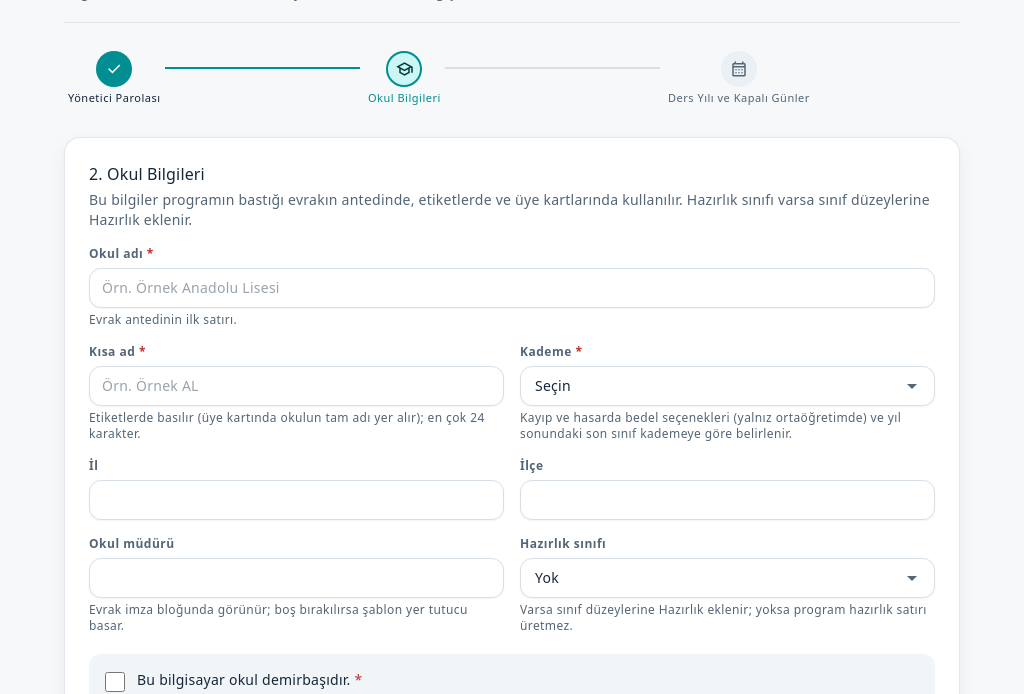
Test: KurulumPage — 2. adım: okul bilgileri › kademe, kısa ad ve demirbaş onayı olmadan kaydetmez; alan hataları gösterilir
Check: the text "2. Okul Bilgileri" is shown, box [89,163,205,185]
Type "Deneme Anadolu Lisesi" into the field labelled "Okul adı *" at (512, 288), box [102,278,922,298]
(page scrolled)
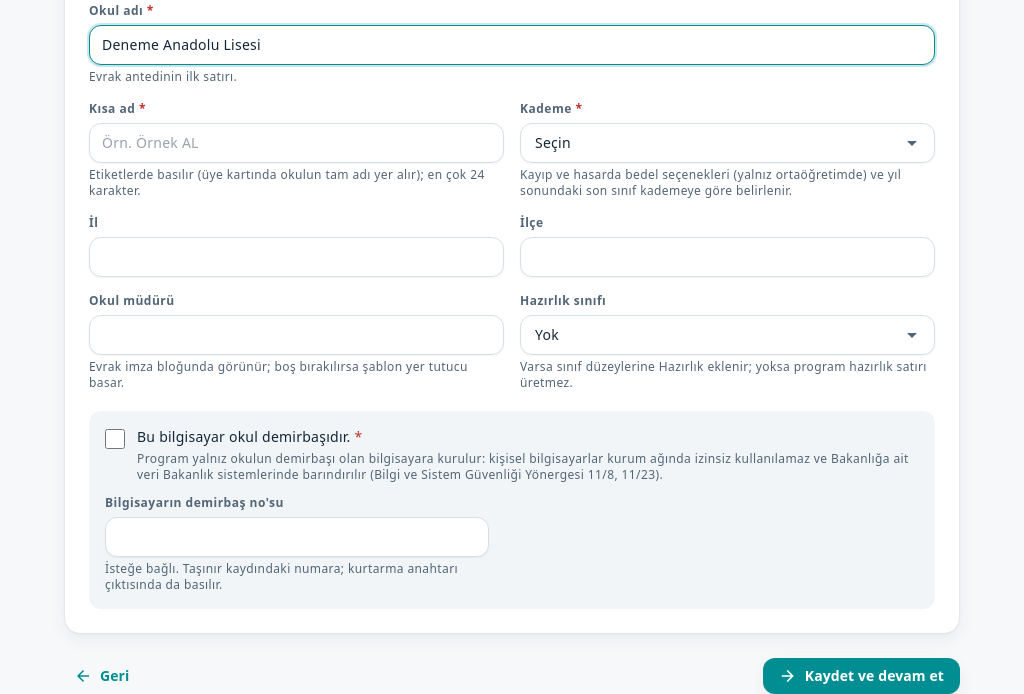
Click the button "Kaydet ve devam et" at (861, 676), box [763,658,960,693]
(page scrolled)
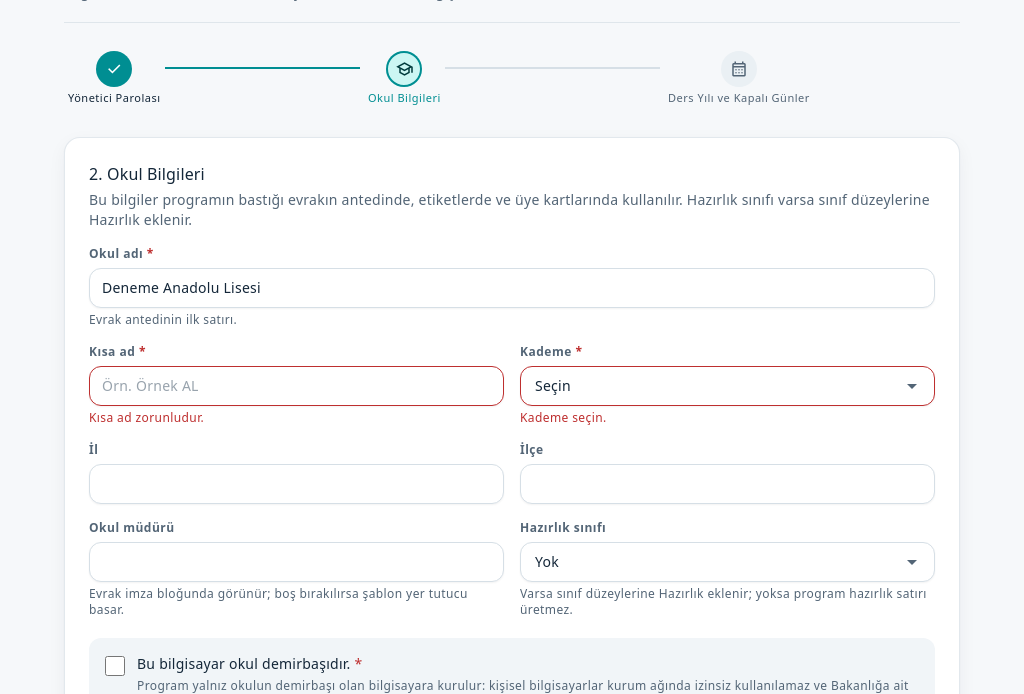
Check: the text "2. Okul Bilgileri" is shown, box [89,163,205,185]
Check: the text "Kademe seçin." is shown, box [520,409,607,426]
Check: the text "Kısa ad zorunludur." is shown, box [89,409,204,426]
